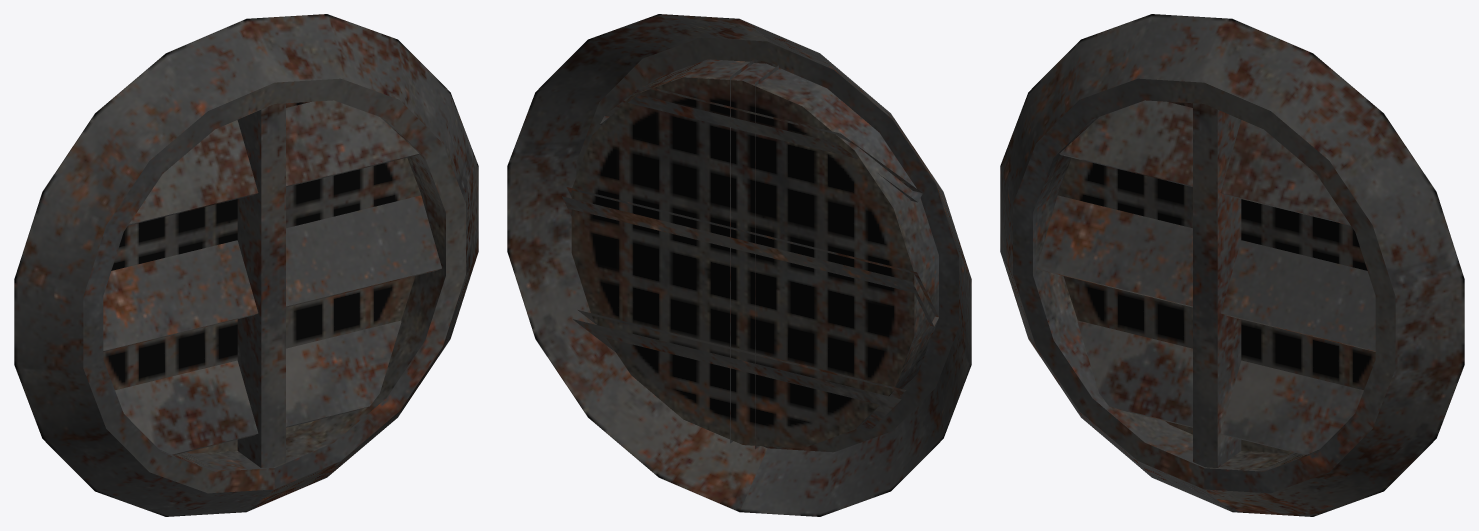
File: SM_Prop_Ventilation.fbx
3 views of the same model, side by side, from view 1: azimuth 30°, elevation 25°; view 2: azimuth 150°, elevation 25°; view 3: azimuth 330°, elevation 25° (orthographic).
Visible parts, largest first — view 1: SM_Prop_Ventilation_LOD0; view 2: SM_Prop_Ventilation_LOD0; view 3: SM_Prop_Ventilation_LOD0.
Boxes of the visible parts, x1=… form: SM_Prop_Ventilation_LOD0: x1=14, y1=14, x2=478, y2=516; SM_Prop_Ventilation_LOD0: x1=507, y1=14, x2=971, y2=516; SM_Prop_Ventilation_LOD0: x1=1000, y1=14, x2=1464, y2=516.
Size of the model in its own units: 54.38 by 6.21 by 55.22.
Materials: 1 (1 with a texture image).
